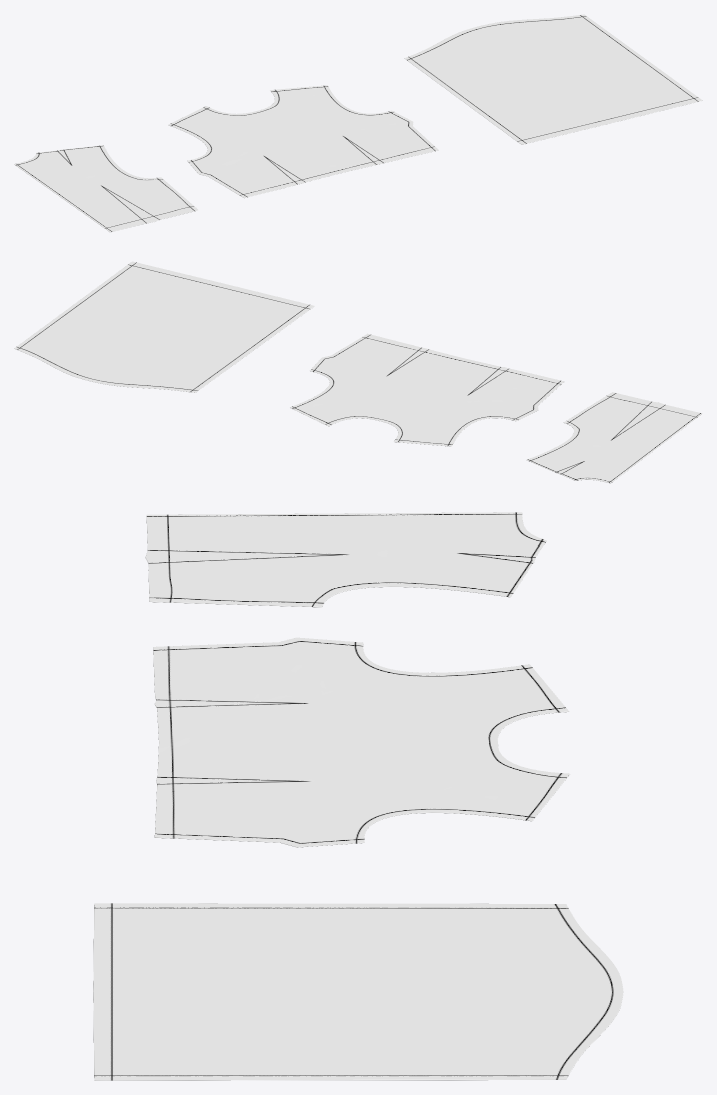
File: setp_01.fbx
3 renders of one model, top to bottom at view 1: azimuth 30°, elevation 25°; view 2: azimuth 150°, elevation 25°; view 3: azimuth 270°, elevation 25°, orthographic. The views are drawn at different scales.
Parts seen in each view (by area): view 1: xiupian, qianpian, houpian; view 2: xiupian, qianpian, houpian; view 3: xiupian, qianpian, houpian.
Part boxes in pixels (x1=…): xiupian: x1=404, y1=14, x2=702, y2=144; qianpian: x1=168, y1=85, x2=438, y2=198; houpian: x1=14, y1=145, x2=198, y2=232; xiupian: x1=14, y1=261, x2=314, y2=392; qianpian: x1=290, y1=333, x2=564, y2=446; houpian: x1=526, y1=392, x2=702, y2=483; xiupian: x1=93, y1=903, x2=623, y2=1080; qianpian: x1=153, y1=637, x2=569, y2=847; houpian: x1=145, y1=512, x2=546, y2=607.
Size of the model in its own units: 126 by 0.0601 by 49.6.
1 material, 1 textured.
